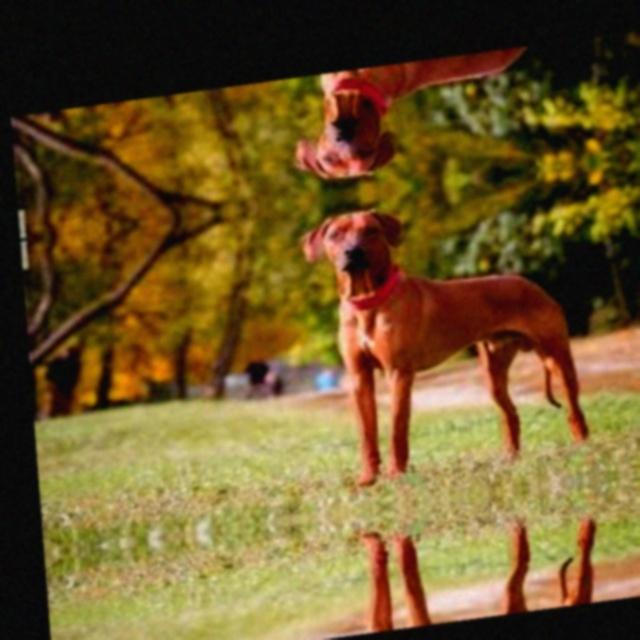dog: (276, 189, 456, 315), (266, 70, 446, 196)
